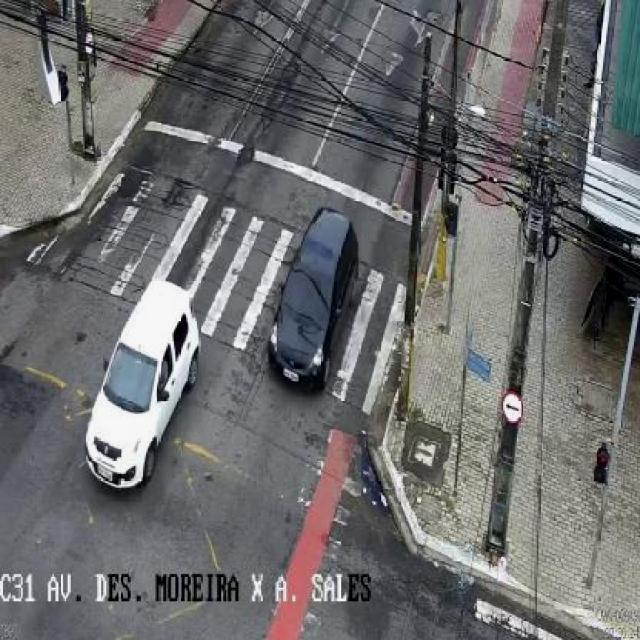Car: (73, 252, 225, 508), (245, 195, 382, 394)
